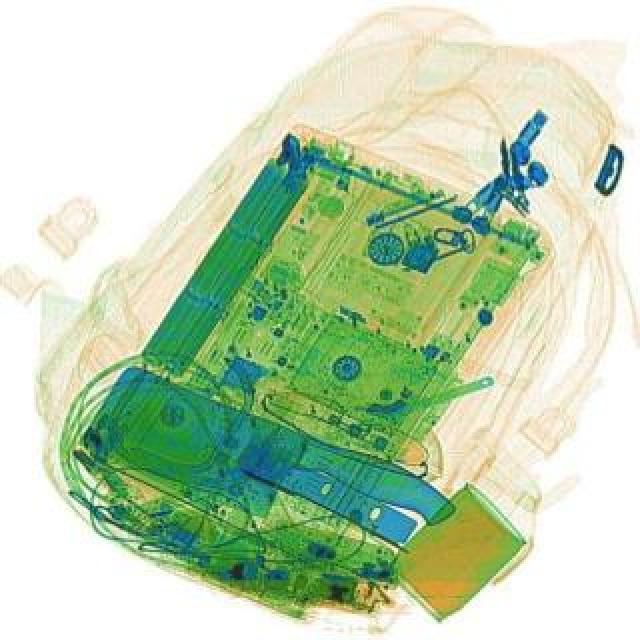knife: (76, 350, 462, 588)
